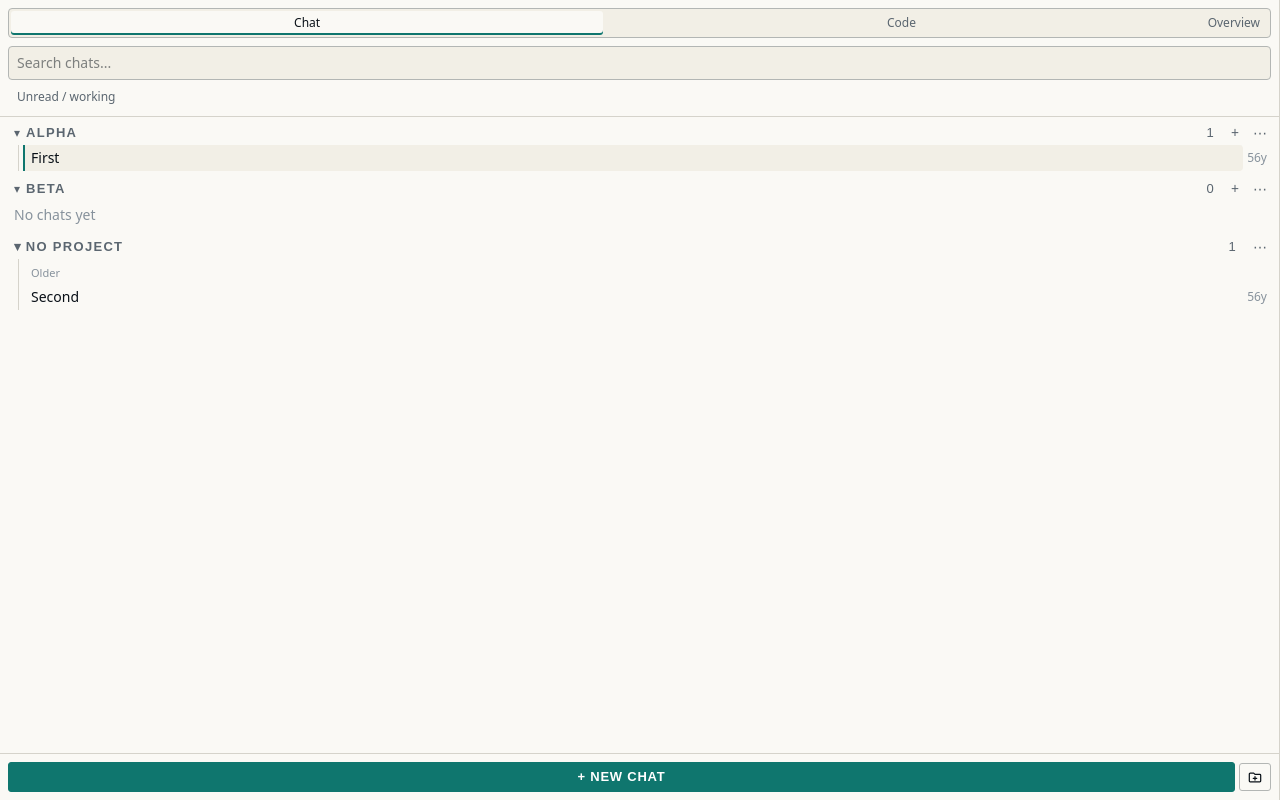
Scenario: ChatList chat menu › right-click opens the menu on its first item; Escape closes it and returns focus to the row
Right-click the button "First" at x=45, y=158, box [23, 145, 1243, 171]
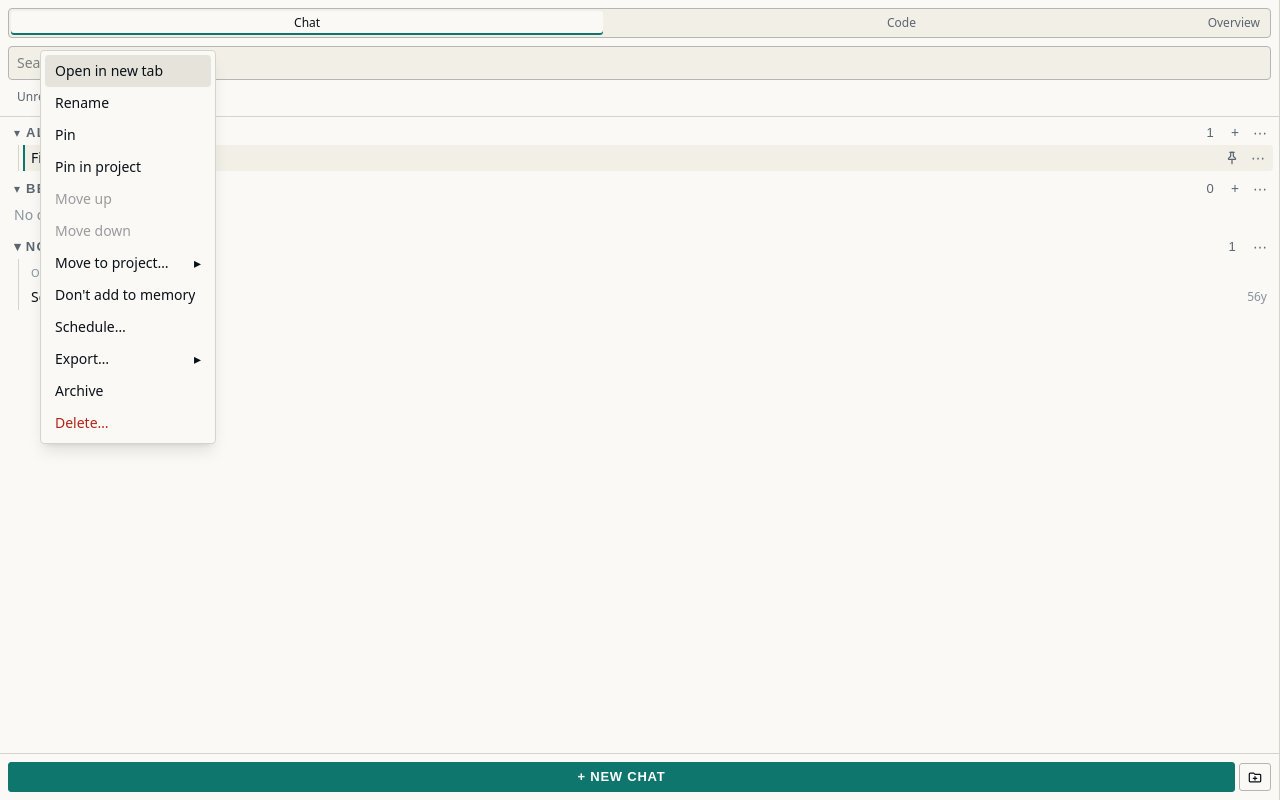
Now the menu named "Chat actions" is shown, box [40, 50, 216, 444]
Now the menu item "Open in new tab" is shown, box [45, 55, 211, 87]
Now the menu item "Rename" is shown, box [45, 87, 211, 119]
Press Escape
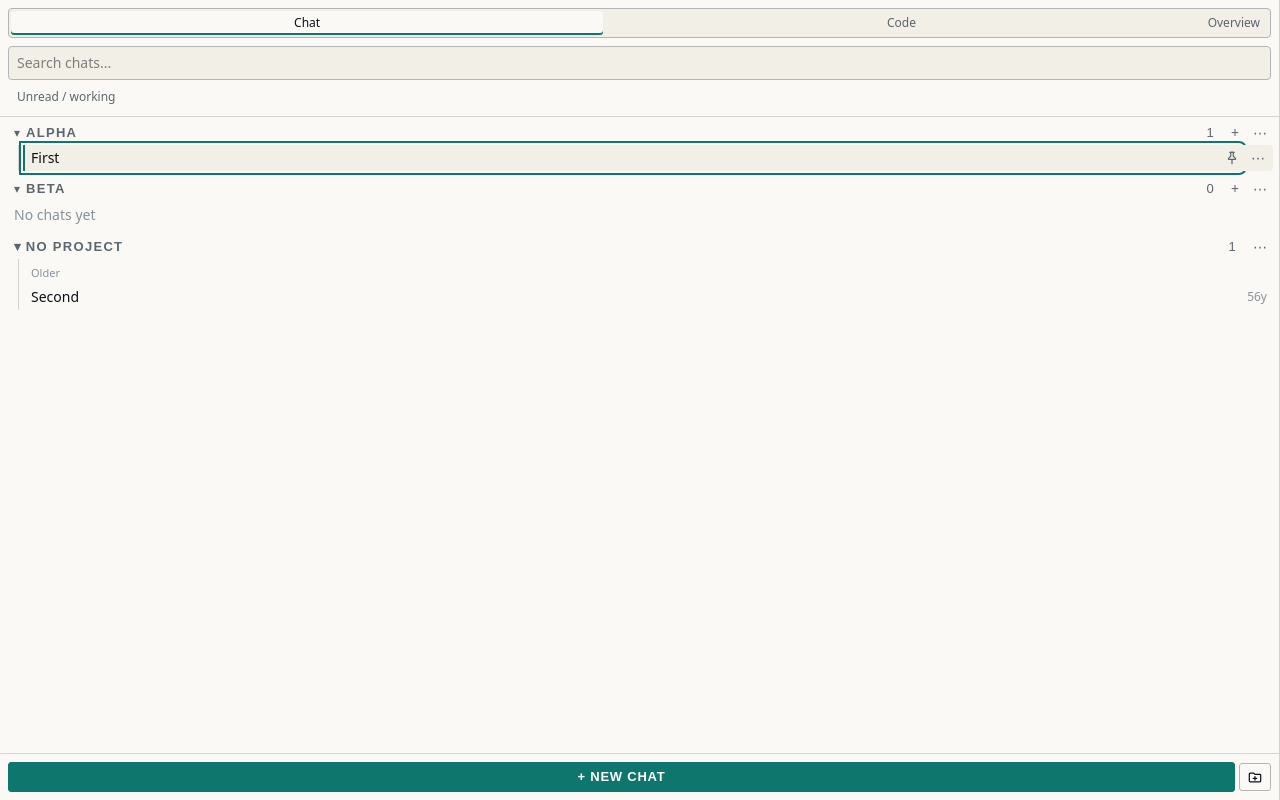
Now the menu is gone
